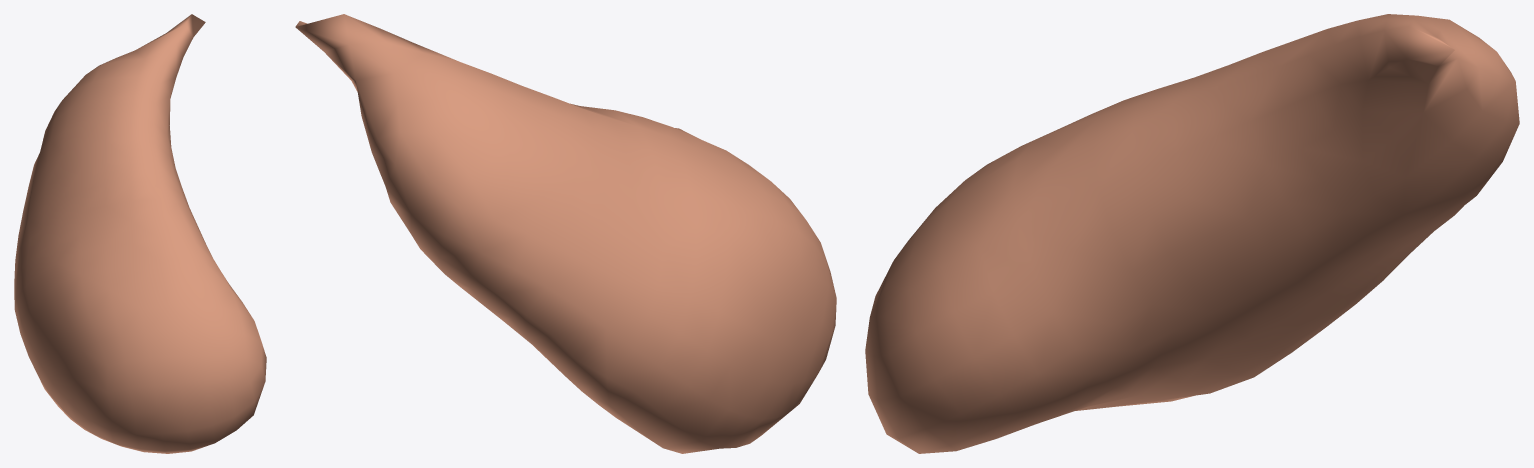
File: gallbladder.glb
3 views of the same model, side by side, from view 1: azimuth 30°, elevation 25°; view 2: azimuth 150°, elevation 25°; view 3: azimuth 270°, elevation 25° (orthographic). The views are drawn at different scales.
Parts seen in each view (by area): view 1: Gallbladder; view 2: Gallbladder; view 3: Gallbladder.
Boxes of the visible parts, x1,y1,x2,y2 form: Gallbladder: [14, 14, 266, 453]; Gallbladder: [295, 14, 836, 453]; Gallbladder: [865, 14, 1519, 453].
Size of the model in its own units: 0.0362 by 0.0435 by 0.0483.
